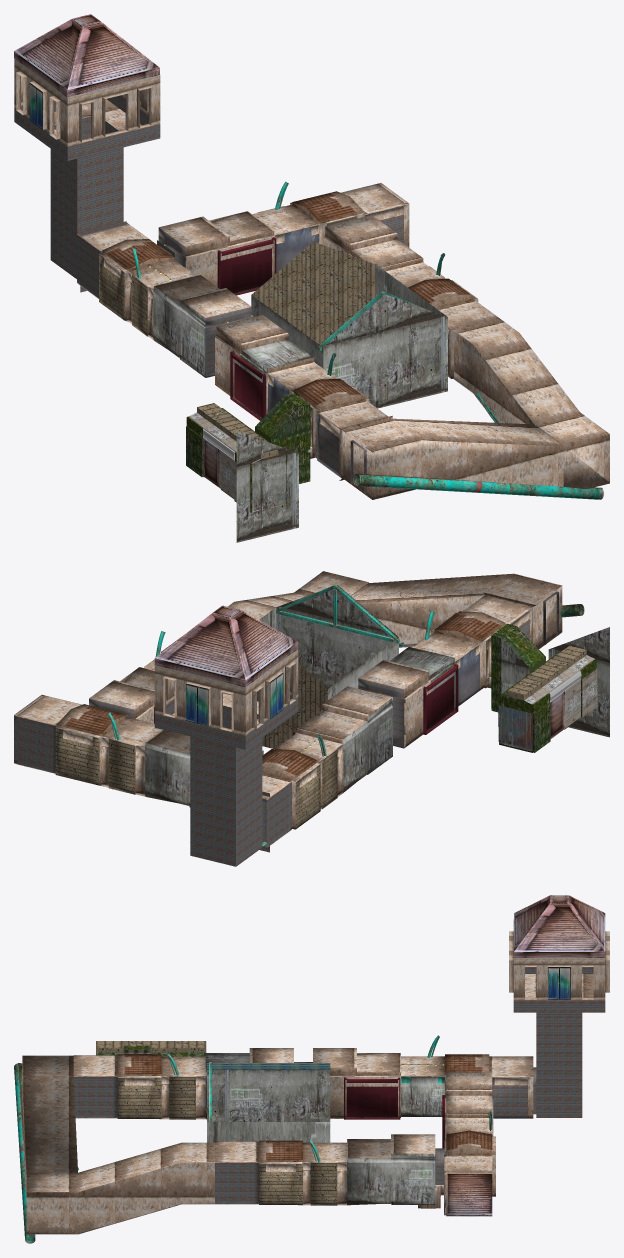
3 views of the same model, one above another, from view 1: azimuth 30°, elevation 25°; view 2: azimuth 150°, elevation 25°; view 3: azimuth 270°, elevation 25° (orthographic). The views are drawn at different scales.
Visible parts, largest first — view 1: Cube, Cube.001, Cube.005, Cube.002; view 2: Cube, Cube.001, Cube.005, Cube.002, Cube.007, Cube.008; view 3: Cube, Cube.001, Cube.005, Cube.002, Cube.007.
Boxes of the visible parts, x1,y1,x2,y2 form: Cube: [77, 181, 609, 542]; Cube.001: [14, 95, 160, 278]; Cube.005: [14, 14, 159, 97]; Cube.002: [14, 59, 160, 147]; Cube: [14, 571, 609, 852]; Cube.001: [154, 691, 298, 866]; Cube.005: [154, 605, 298, 687]; Cube.002: [154, 649, 298, 736]; Cube.007: [174, 681, 208, 725]; Cube.008: [270, 673, 283, 718]; Cube: [14, 1035, 536, 1243]; Cube.001: [513, 967, 605, 1117]; Cube.005: [514, 895, 605, 957]; Cube.002: [509, 919, 609, 1000]; Cube.007: [548, 967, 570, 999].
Size of the model in its own units: 3236 by 2497 by 5195.
